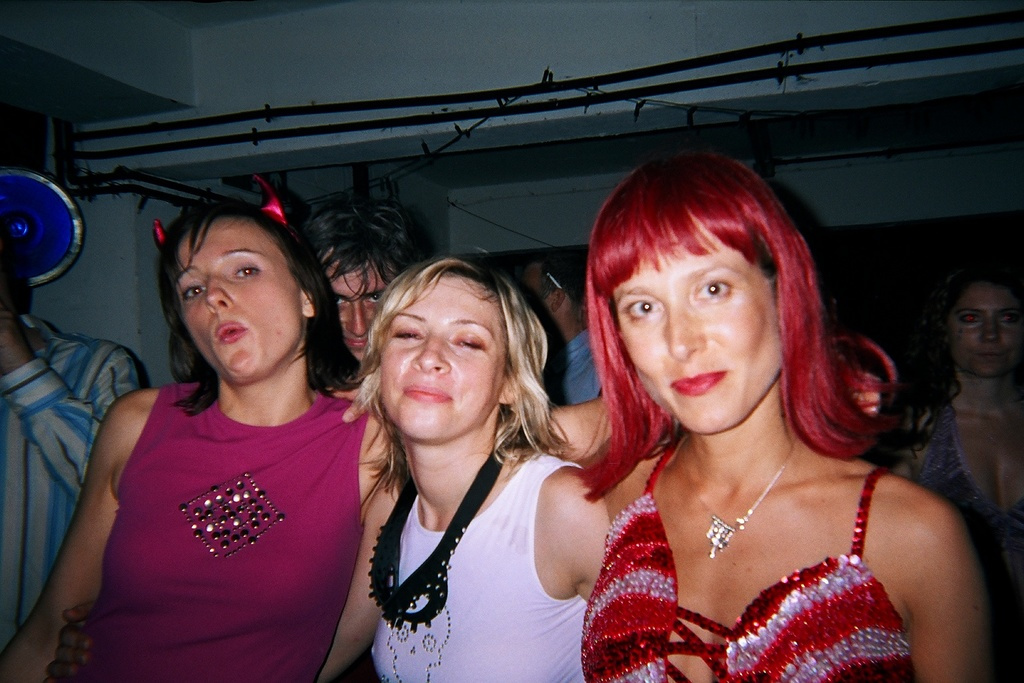Person: (0, 151, 1024, 683)
